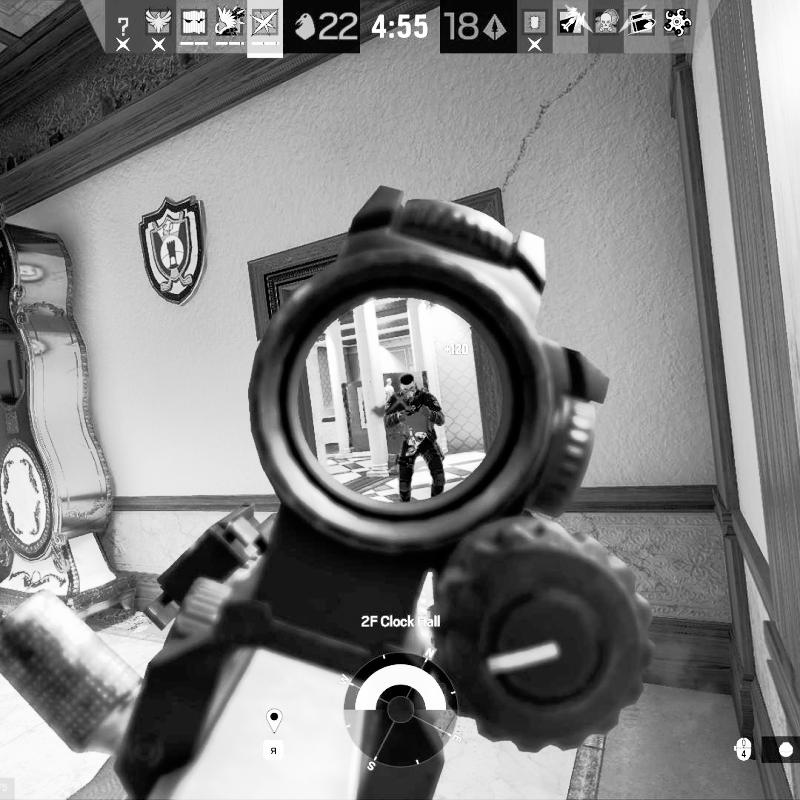Character: (382, 372, 450, 504)
Head: (398, 373, 417, 395)
